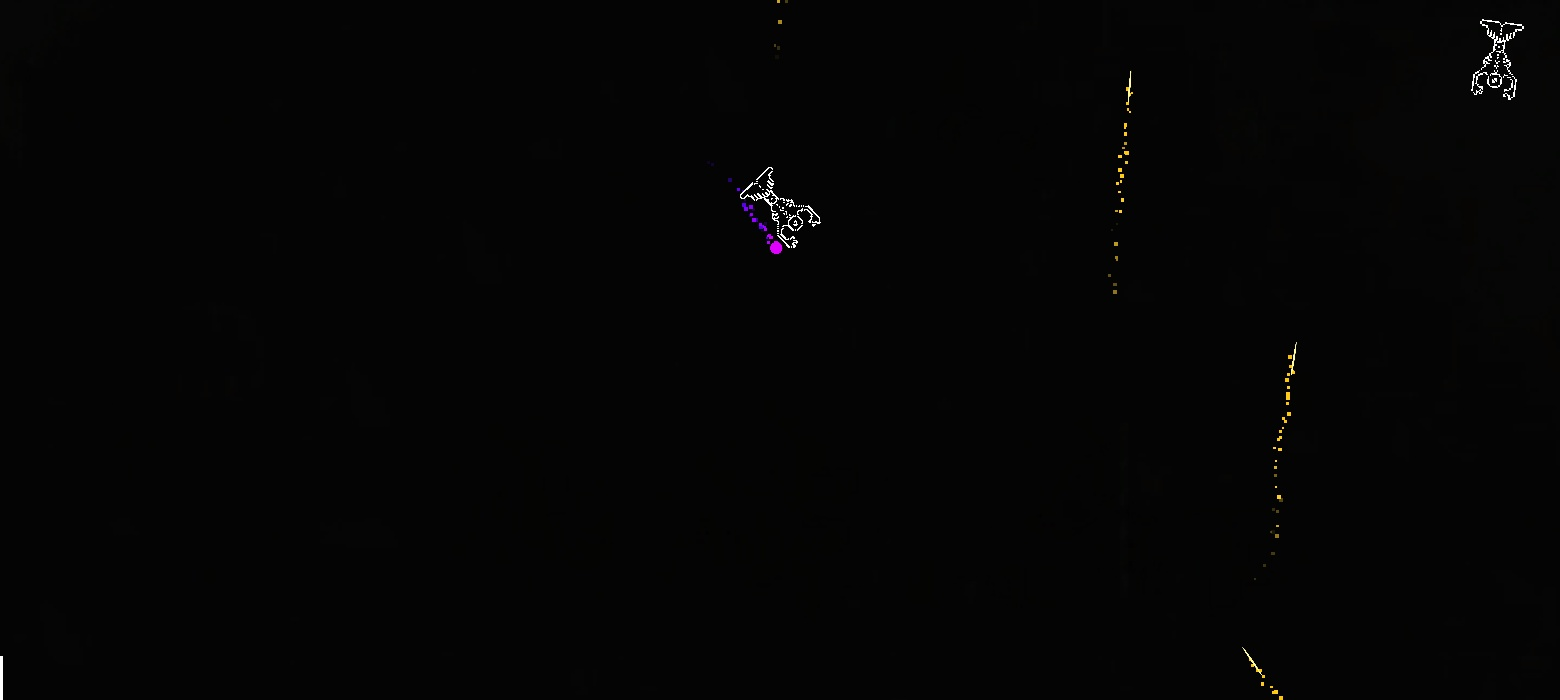enemy: (739, 167, 821, 250), (1471, 18, 1524, 101)
